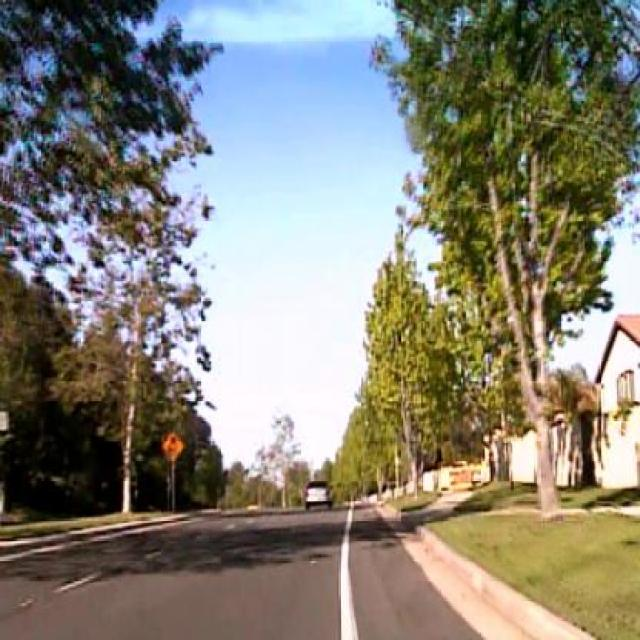signalAhead: (160, 430, 185, 462)
